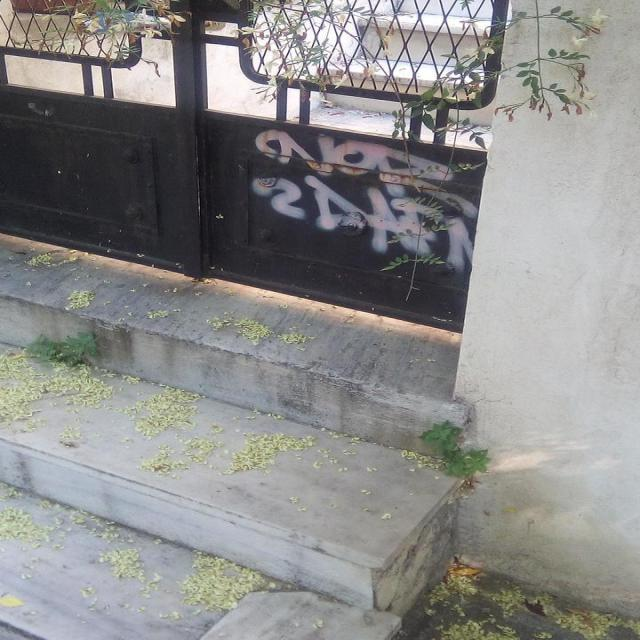nonspitting: (252, 127, 476, 270)
